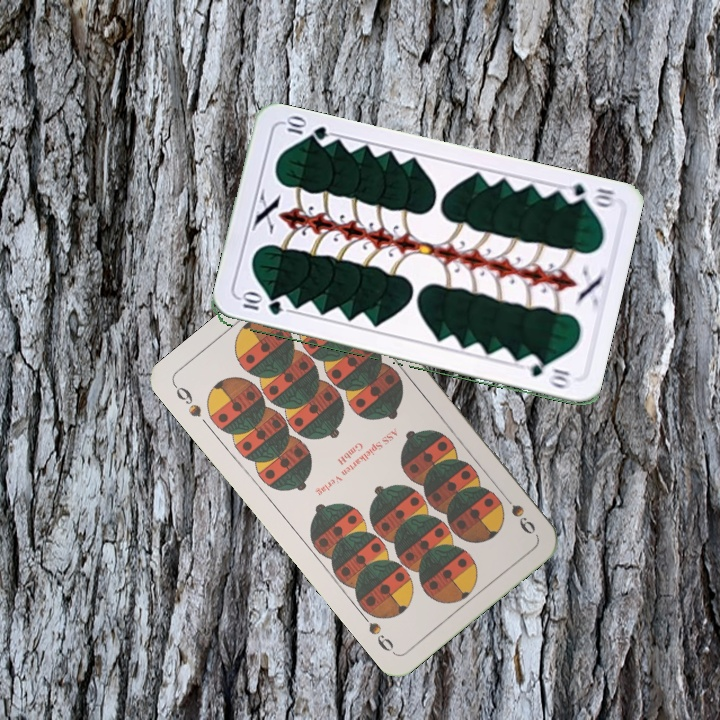G10: (558, 179, 617, 210), (236, 292, 286, 318)
S9: (496, 487, 539, 537), (169, 380, 204, 420)
